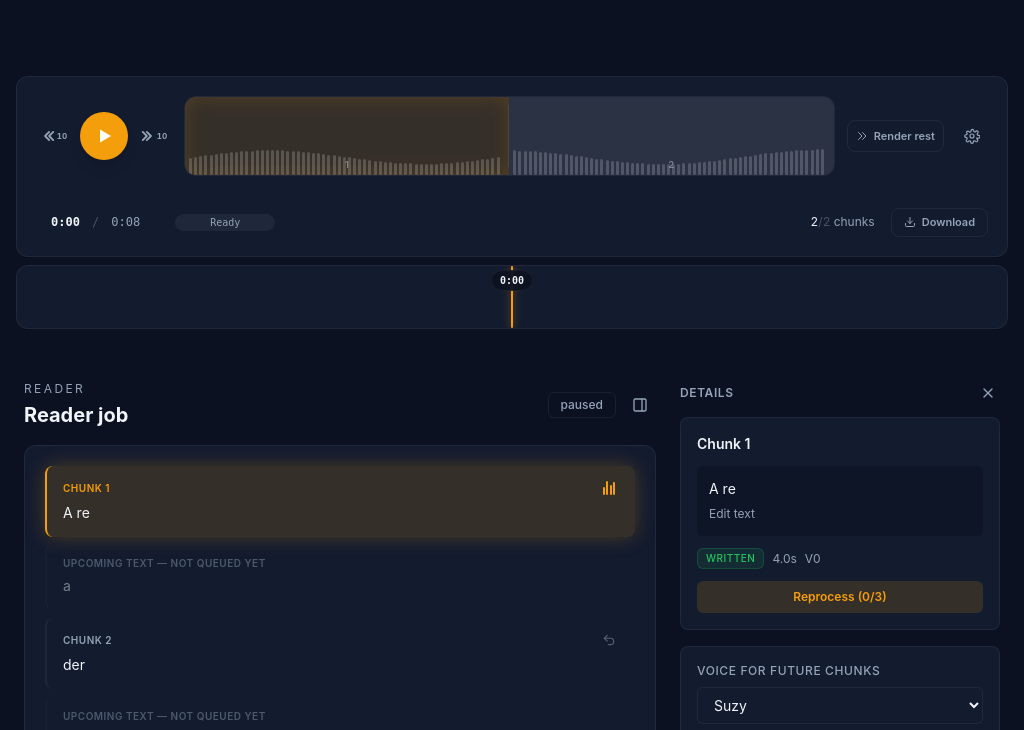
Test: the settings panel exposes the conveyor controls
Expected: the heading "Reader job" is shown, [24,401,128,429]
Click the button named "Reader settings" at (972, 136), box [956,120,988,152]
(page scrolled)
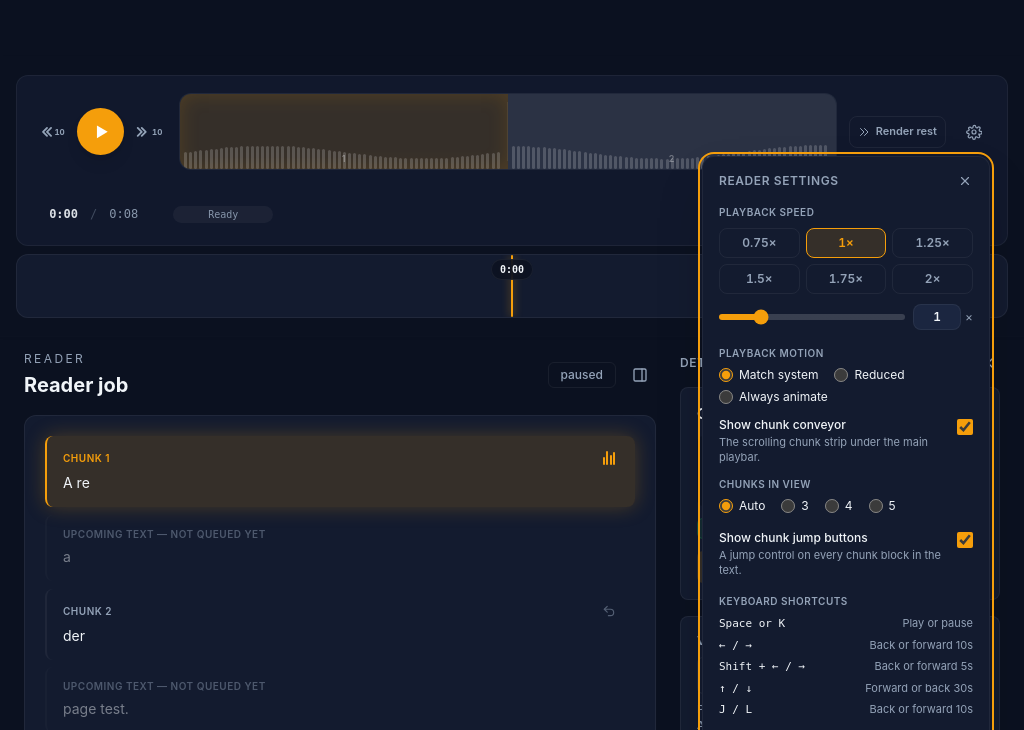
Result: the element with test id "shortcut-guide" is shown at [719,615,973,719]
Result: the checkbox labelled "Show chunk conveyor" is checked at [957,419,973,435]
Result: the text "Chunks in view" is shown at [719,477,811,492]
